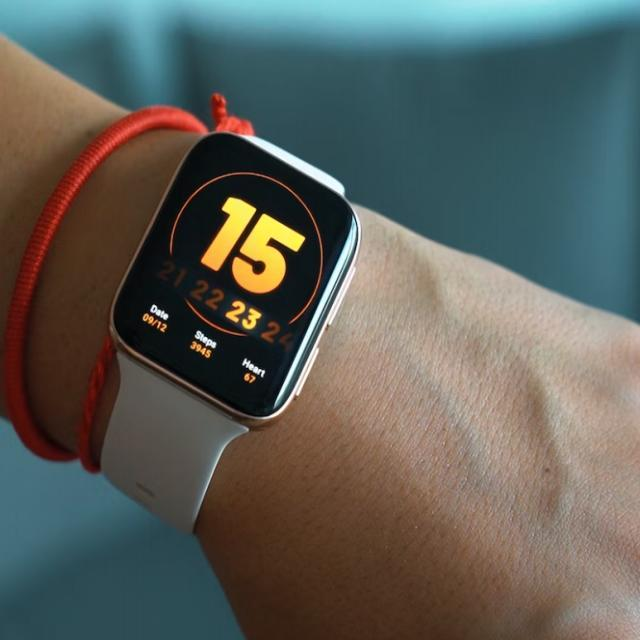Watch: (92, 120, 364, 528)
